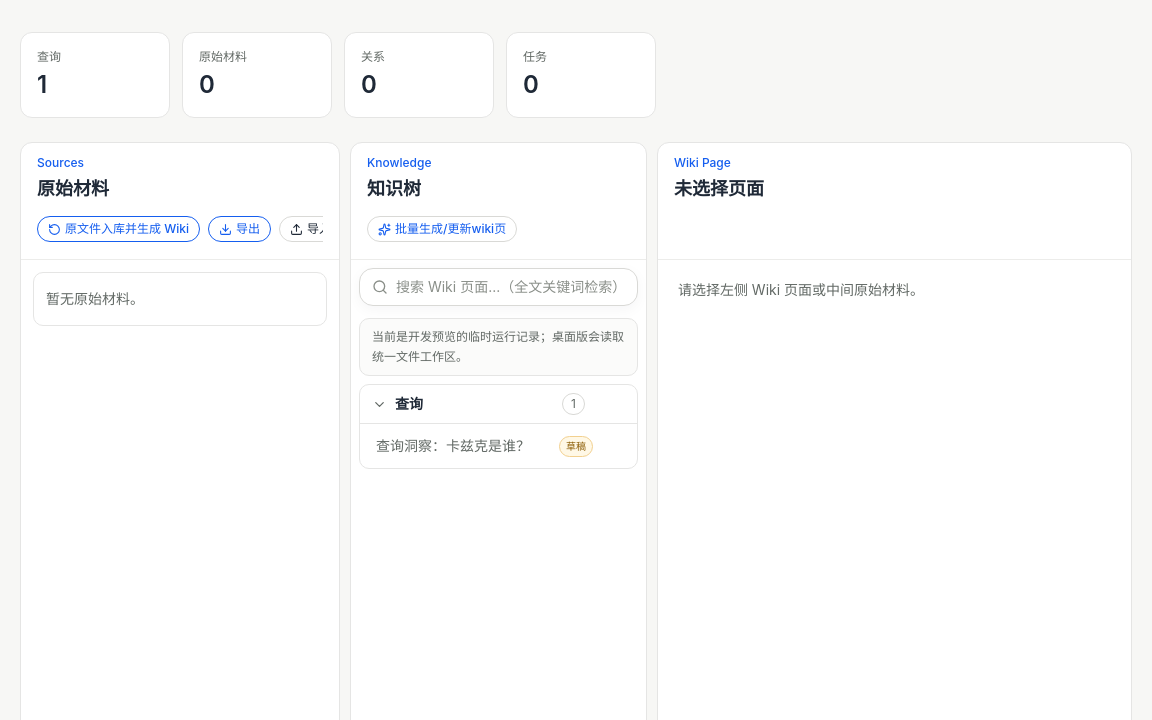
Test: RuntimeWikiPage › hides polluted wiki descriptions and repairs them in the background
Check: the text "查询洞察：卡兹克是谁？" is shown, box [376, 436, 547, 456]
Click the button "查询洞察：卡兹克是谁？" at x=461, y=446, box [368, 430, 555, 462]
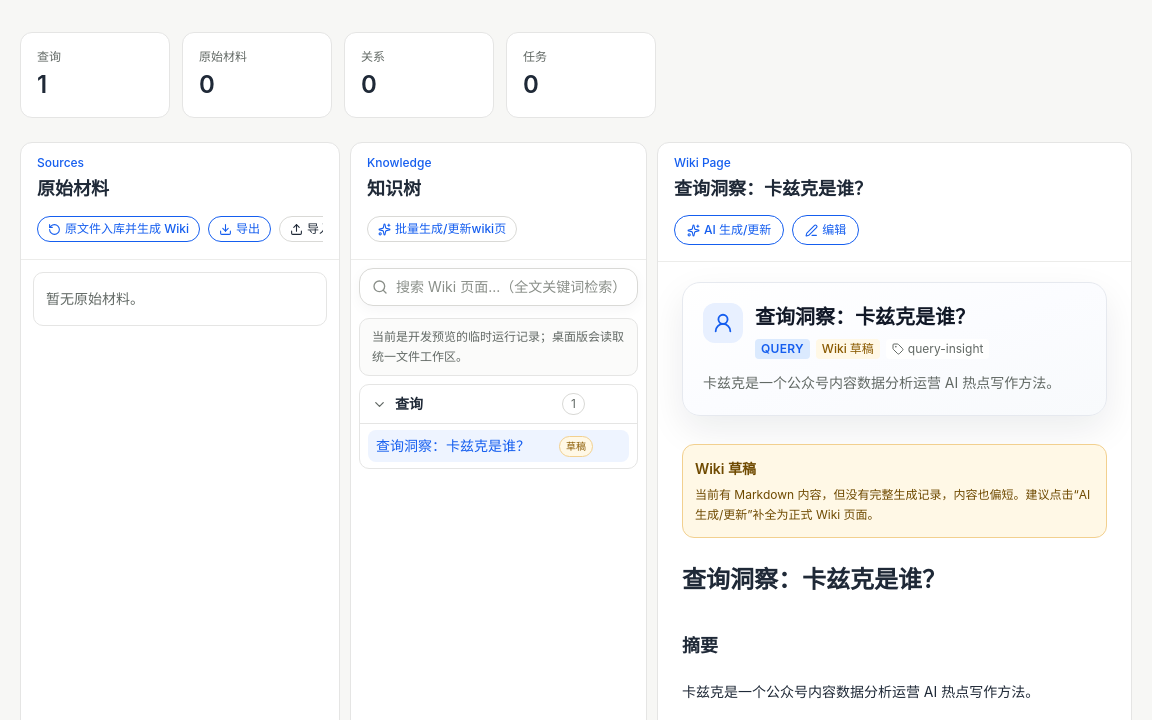
Check: the text "卡兹克是一个公众号内容数据分析运营 AI 热点写作方法。" below "query-insight" is shown, box [703, 374, 1060, 391]
